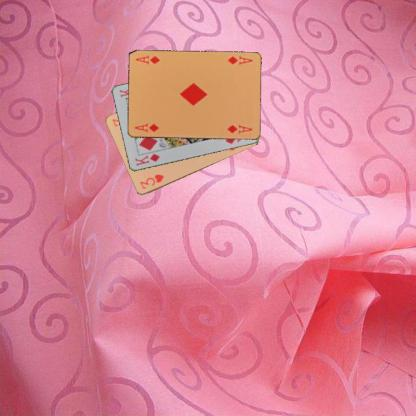3h: (138, 172, 165, 190)
Ad: (224, 53, 254, 67), (132, 121, 160, 133)
Kd: (132, 151, 161, 167)
